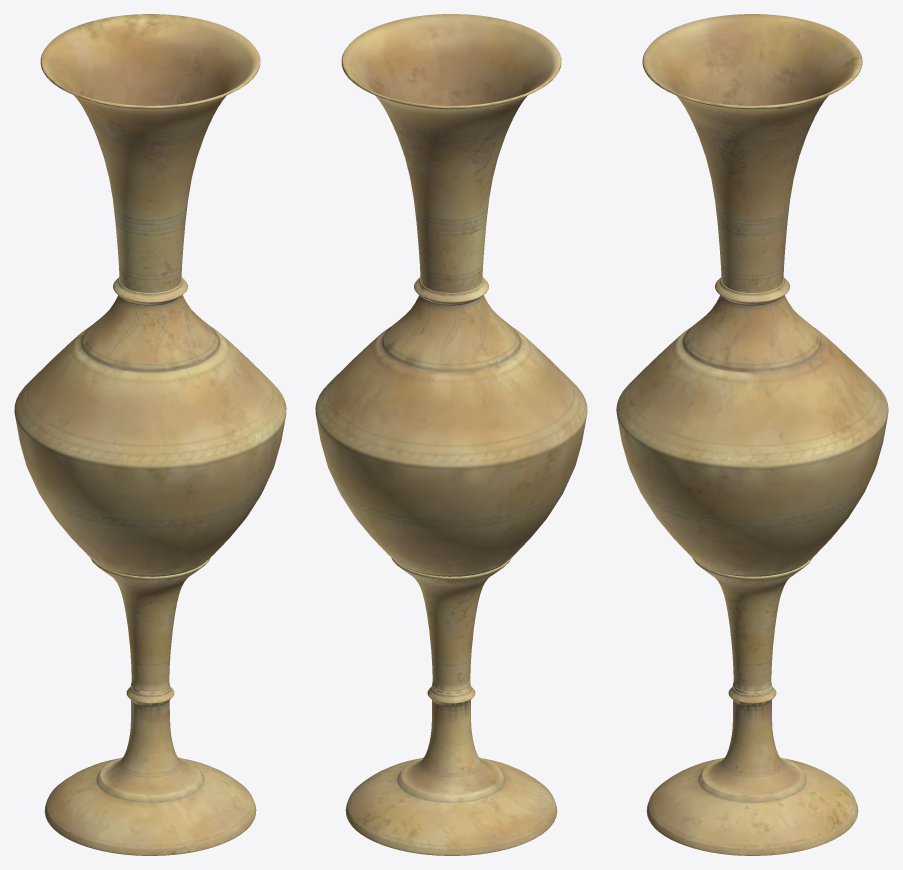
The model's file is brass_vase_01.glb.
3 views of the same model, side by side, from view 1: azimuth 30°, elevation 25°; view 2: azimuth 150°, elevation 25°; view 3: azimuth 270°, elevation 25° (orthographic).
Visible parts, largest first — view 1: brass_vase_01; view 2: brass_vase_01; view 3: brass_vase_01.
Part boxes in pixels (x1,y1,x2,y2): brass_vase_01: (14, 14, 286, 855); brass_vase_01: (315, 14, 587, 855); brass_vase_01: (616, 14, 888, 855).
Bounding box in the file's own units: 0.2273 × 0.6925 × 0.2273.
Materials: 1 (1 with a texture image).
